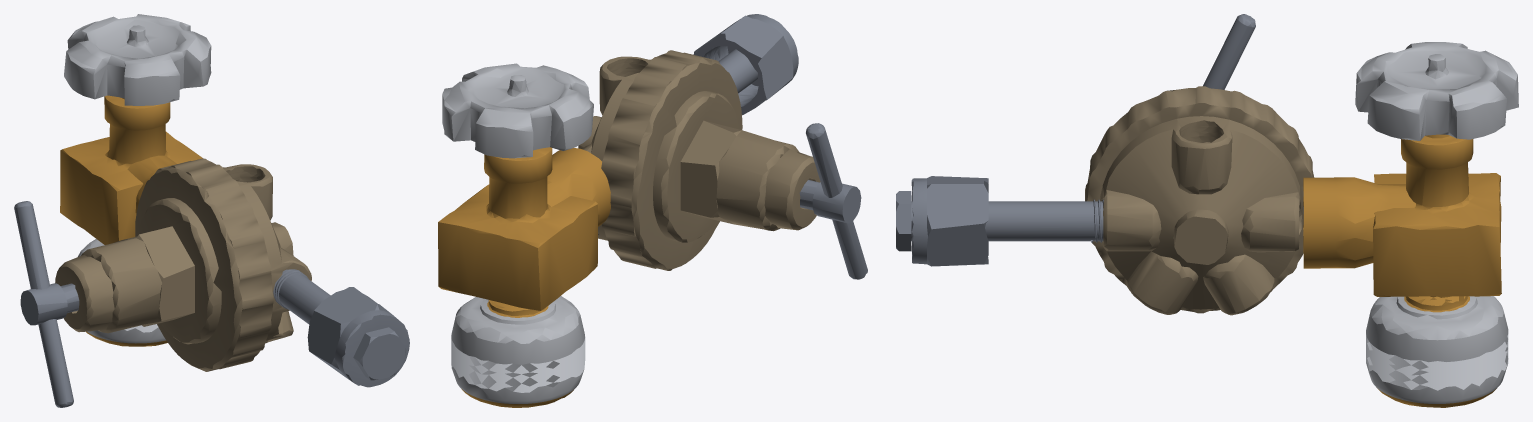
File: Regulator.FBX
3 renders of one model, left to right at view 1: azimuth 30°, elevation 25°; view 2: azimuth 150°, elevation 25°; view 3: azimuth 270°, elevation 25°, orthographic. The views are drawn at different scales.
Parts seen in each view (by area): view 1: VIFS232, ChamferCyl003, Cylinder008, VIFS234, VIFS216, VIFS231, Tube005; view 2: VIFS232, ChamferCyl003, Cylinder008, VIFS216, VIFS234, Tube005, VIFS231; view 3: VIFS232, ChamferCyl003, Cylinder008, Tube005, VIFS216, VIFS231, VIFS234.
Part boxes in pixels (x1,y1,x2,y2): VIFS232: (55, 158, 311, 371); ChamferCyl003: (60, 95, 202, 346); Cylinder008: (64, 14, 211, 105); VIFS234: (14, 201, 79, 407); VIFS216: (307, 287, 409, 387); VIFS231: (273, 269, 406, 380); Tube005: (127, 155, 176, 214); VIFS232: (578, 50, 820, 270); ChamferCyl003: (438, 147, 597, 407); Cylinder008: (442, 63, 593, 158); VIFS216: (693, 14, 798, 115); VIFS234: (799, 123, 867, 279); Tube005: (547, 148, 610, 226); VIFS231: (719, 49, 757, 93); VIFS232: (1085, 86, 1314, 315); ChamferCyl003: (1366, 134, 1508, 407); Cylinder008: (1355, 42, 1518, 140); Tube005: (1303, 177, 1415, 268); VIFS216: (911, 176, 988, 266); VIFS231: (896, 191, 1103, 251); VIFS234: (1203, 14, 1255, 89).
Bounding box in the file's own units: 0.00211 × 0.00216 × 0.00372.
